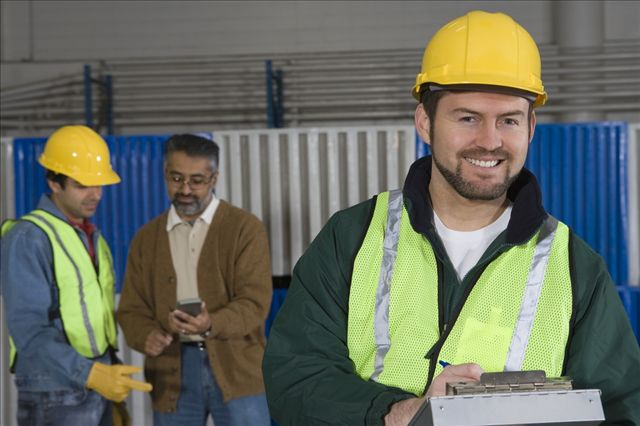gloves: (86, 361, 153, 402)
hard-hat: (411, 10, 548, 108), (37, 123, 121, 186)
person: (261, 9, 639, 426), (114, 132, 274, 425), (0, 124, 151, 426)
vest: (261, 156, 639, 426), (7, 203, 116, 361)
